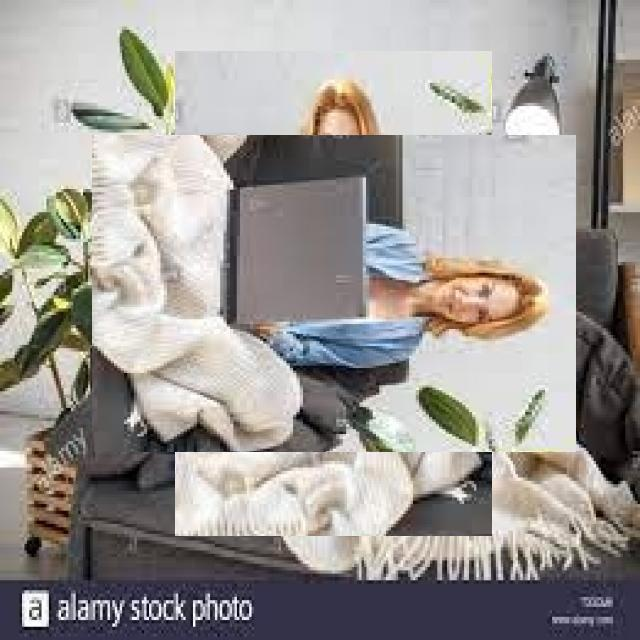NotFall: (106, 153, 565, 428)
